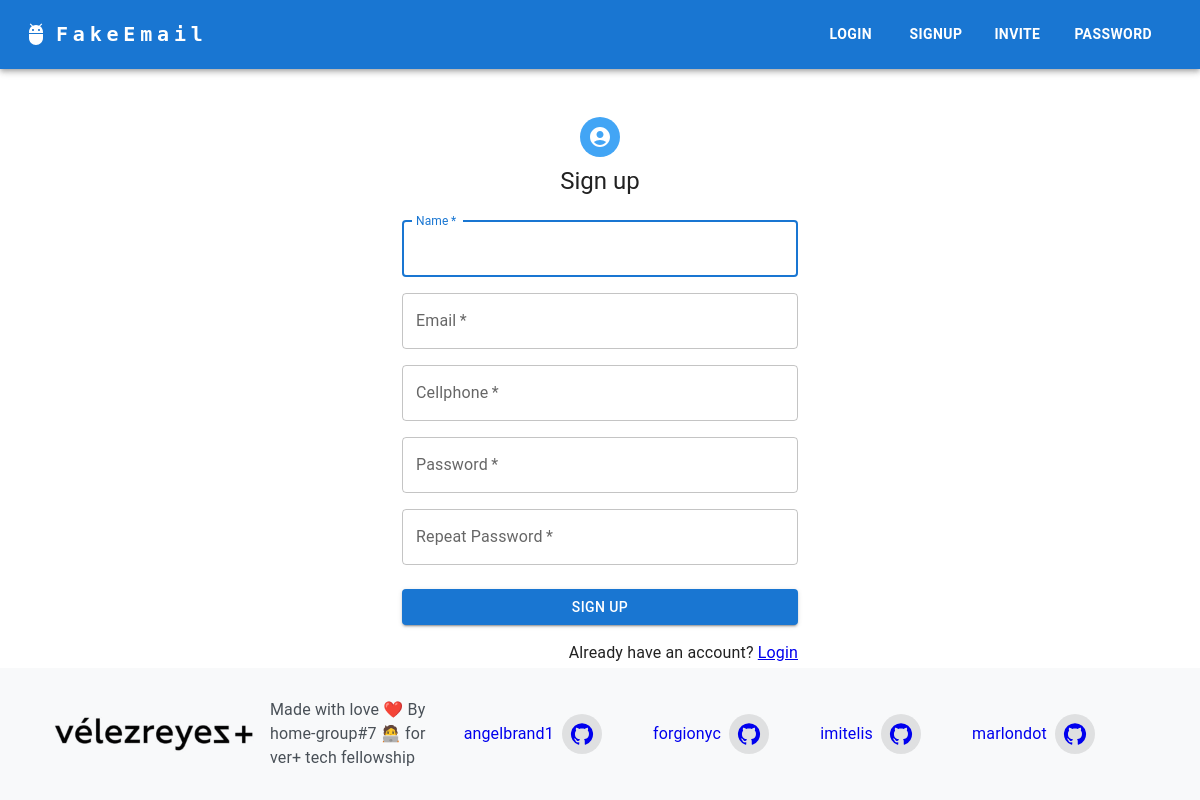
Test: Signup tests › displays error when passwords don't match
The image size is (1200, 800).
Type "test user" into the field named "name" at (600, 249), box left=402, top=221, right=798, bottom=277
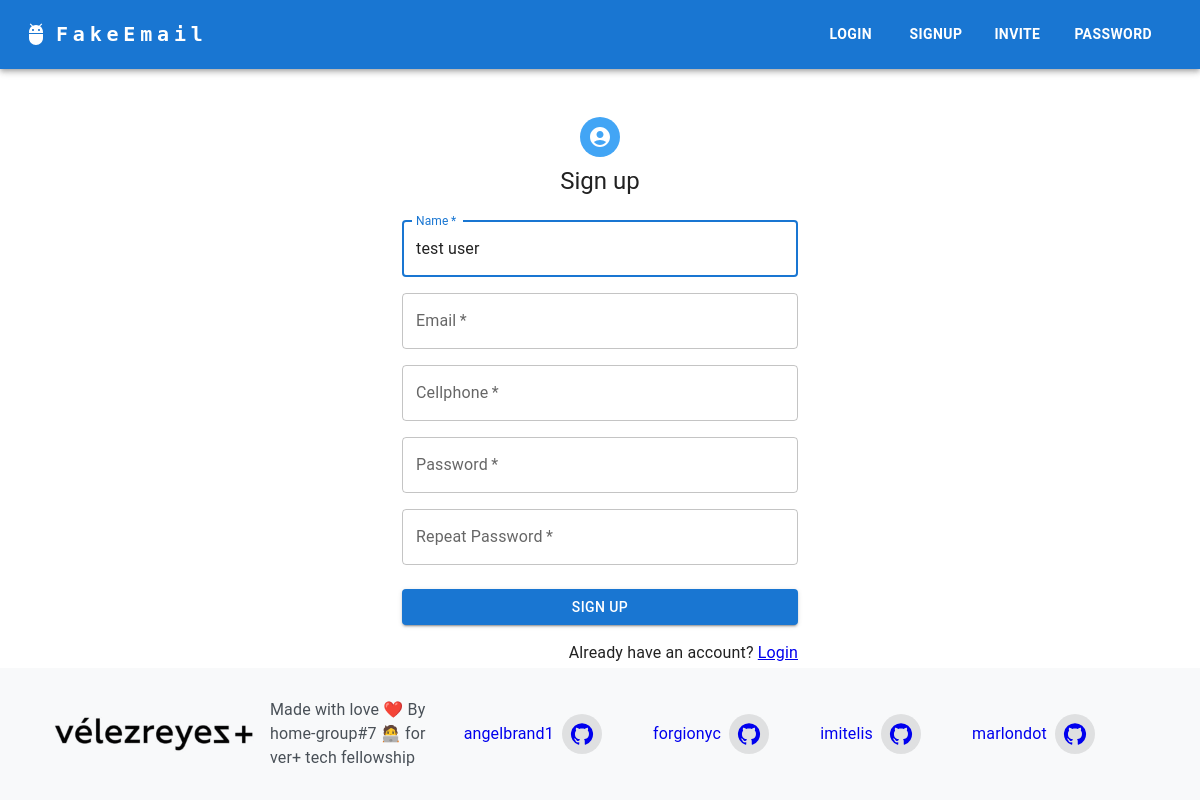
Type "test@gmail.com" into the field named "email" at (600, 321), box left=402, top=293, right=798, bottom=349
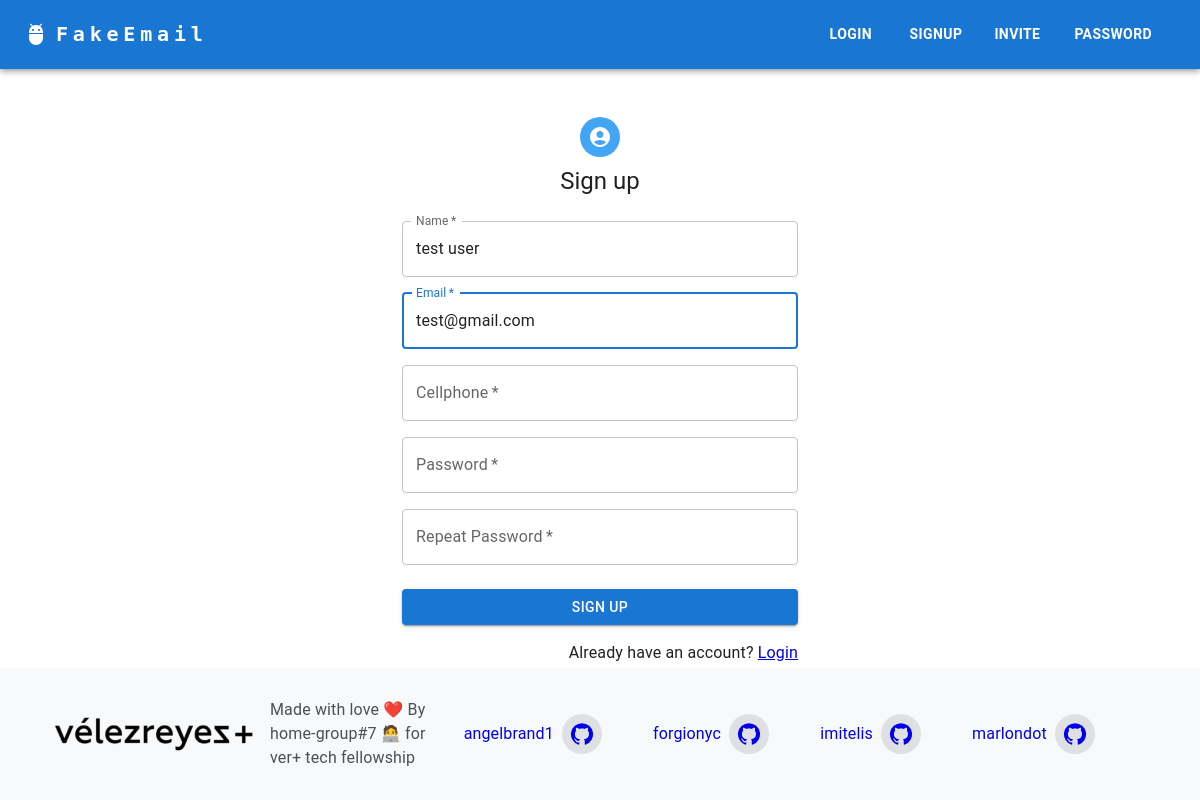
Type "3001234321" into the field named "cellphone" at (600, 393), box left=402, top=365, right=798, bottom=421
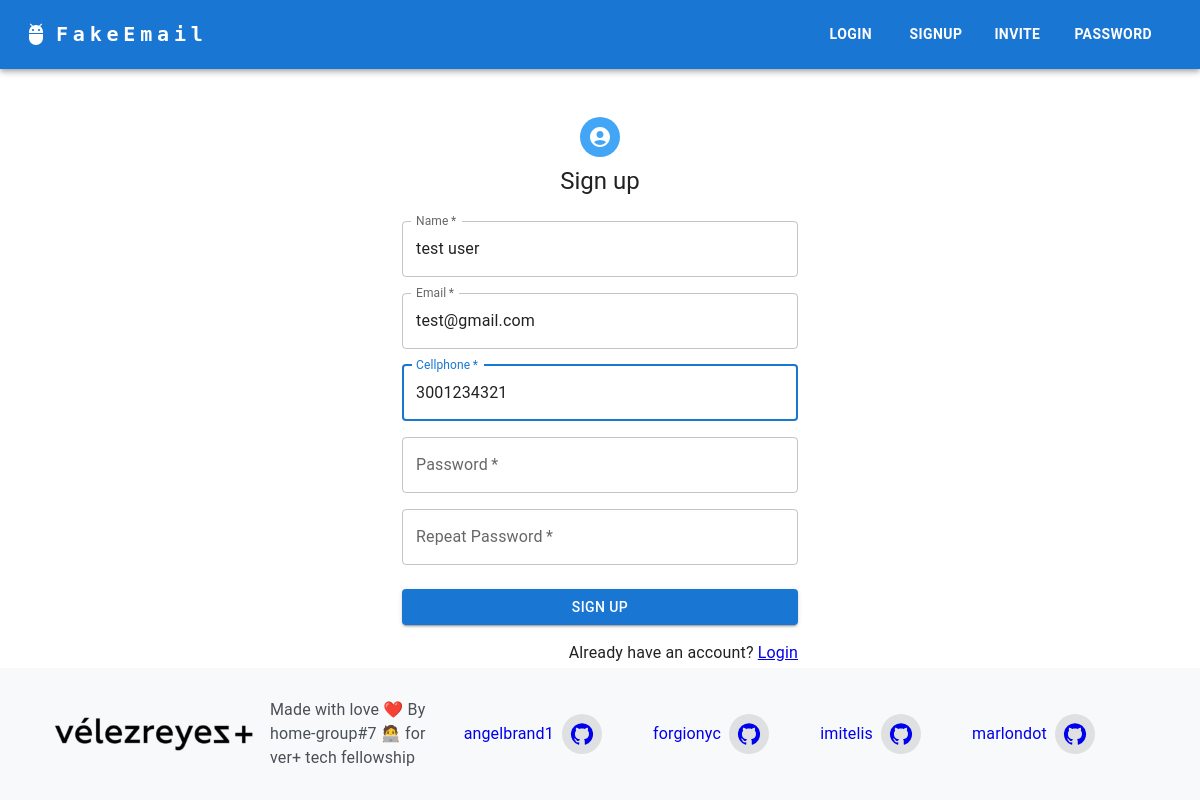
Type "validpass" into the password field named "password" at (600, 465), box left=402, top=437, right=798, bottom=493
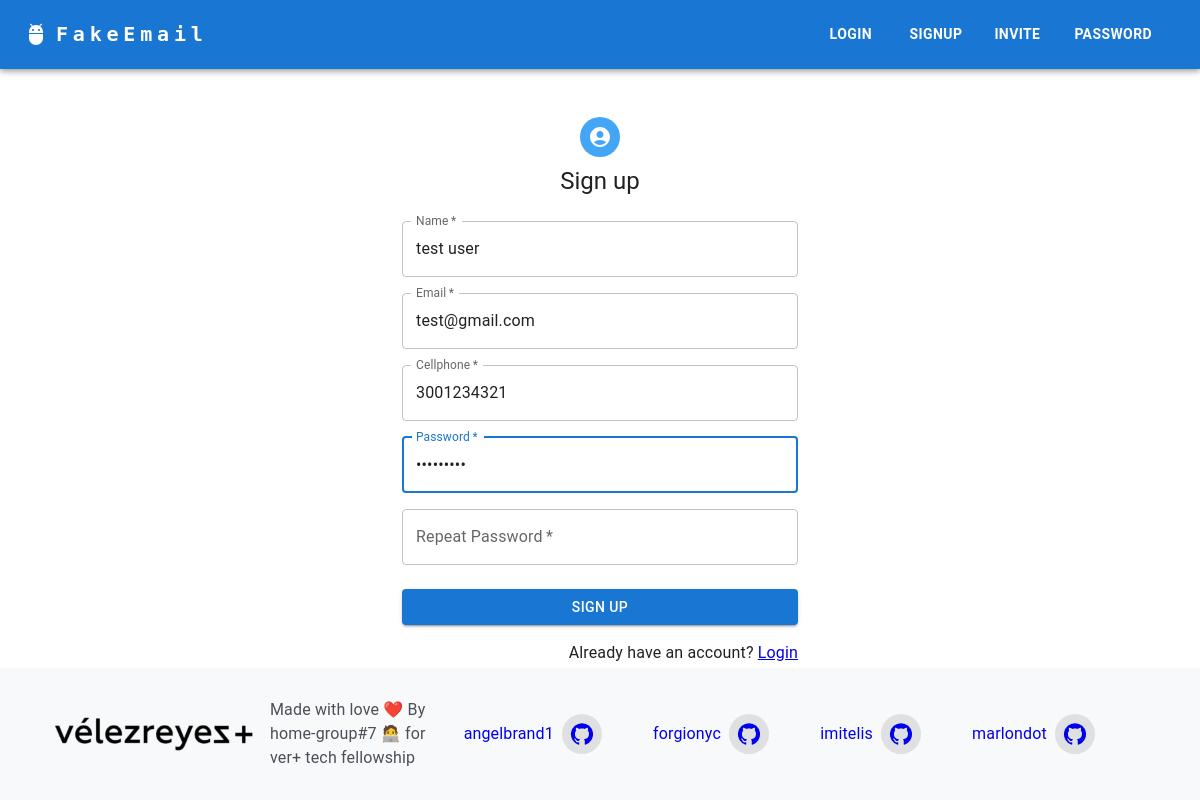
Type "passvalid" into the password field named "repeatPassword" at (600, 537), box left=402, top=509, right=798, bottom=565
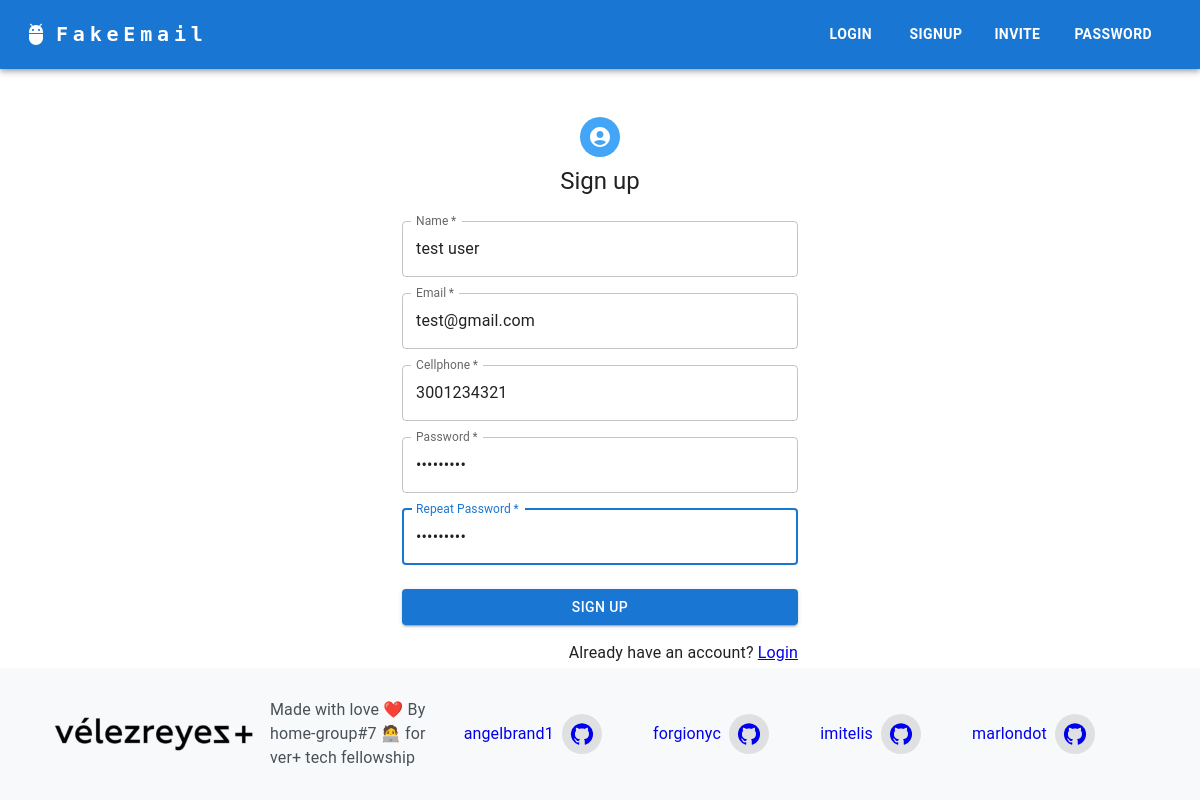
Click the button with id "signupButton" at (600, 608), box left=402, top=589, right=798, bottom=626
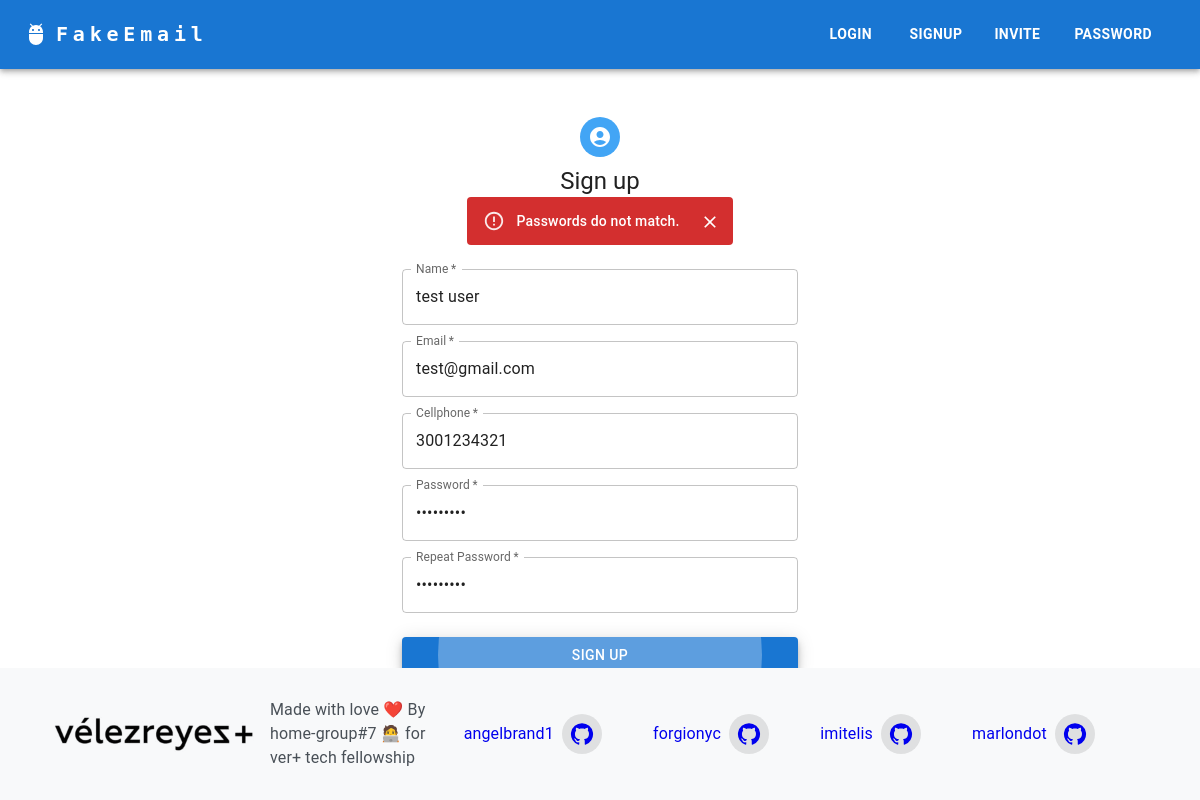
Result: the text "Passwords do not match." is shown at left=516, top=212, right=679, bottom=228
